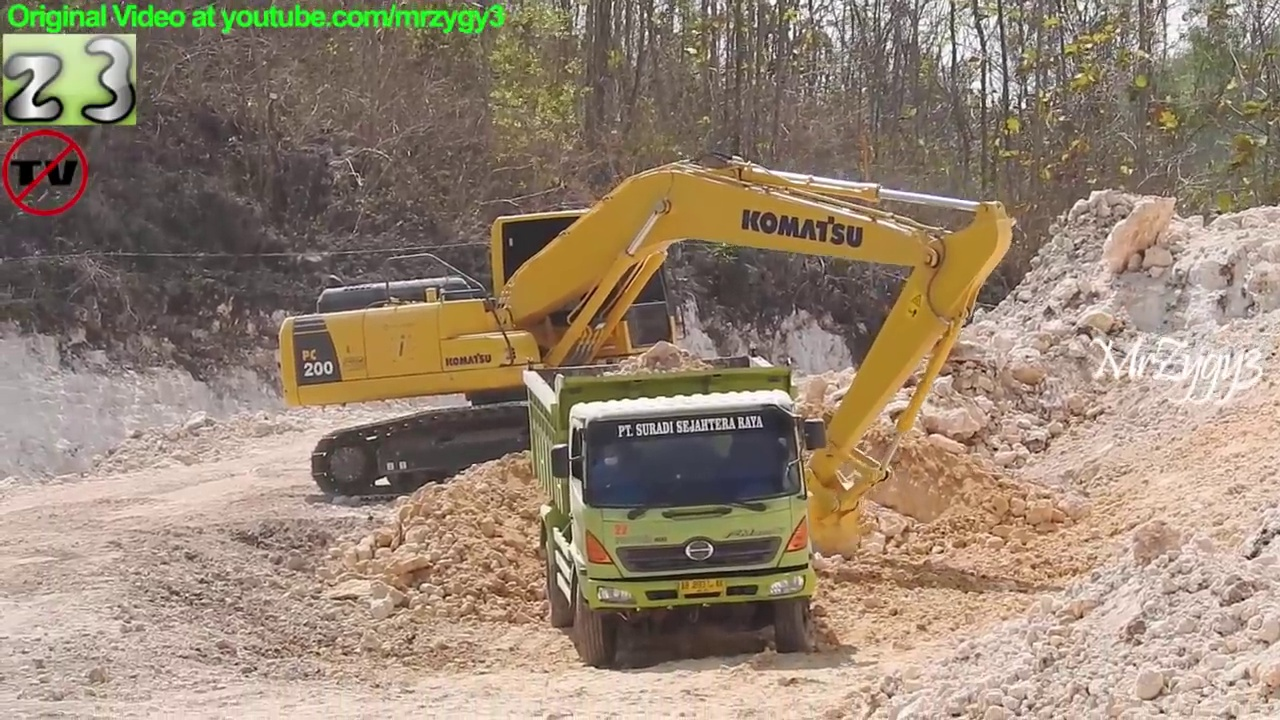excavator: (275, 147, 1023, 567)
truck: (517, 347, 830, 668)
